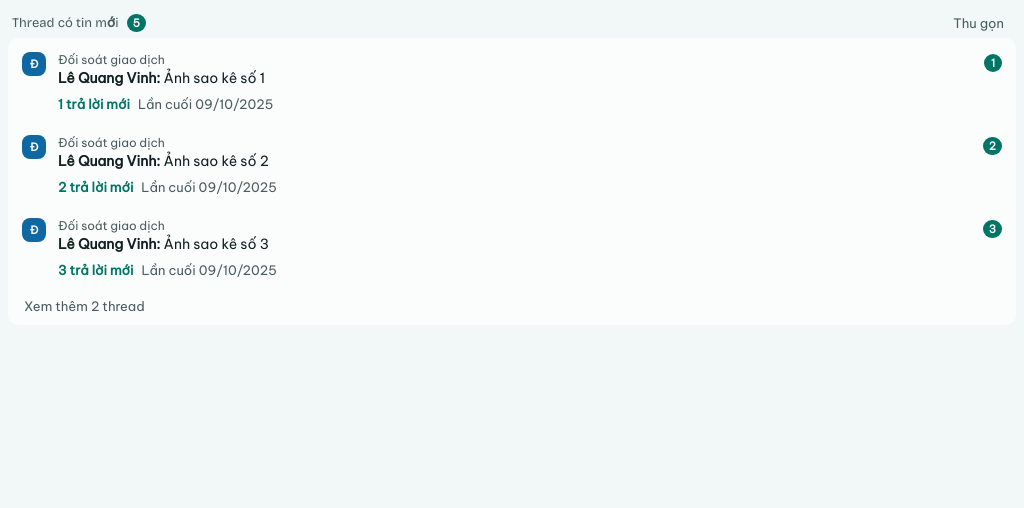
UnreadThreadsSection › shows the first three and folds the rest behind "Xem thêm N thread"
Expected: the number of buttons named "Thread của" is 3, [12,42,1012,123]; [12,125,1012,206]; [12,208,1012,289]
Step 1. Click the button "Xem thêm 2 thread" → [84, 306], box [12,291,157,321]
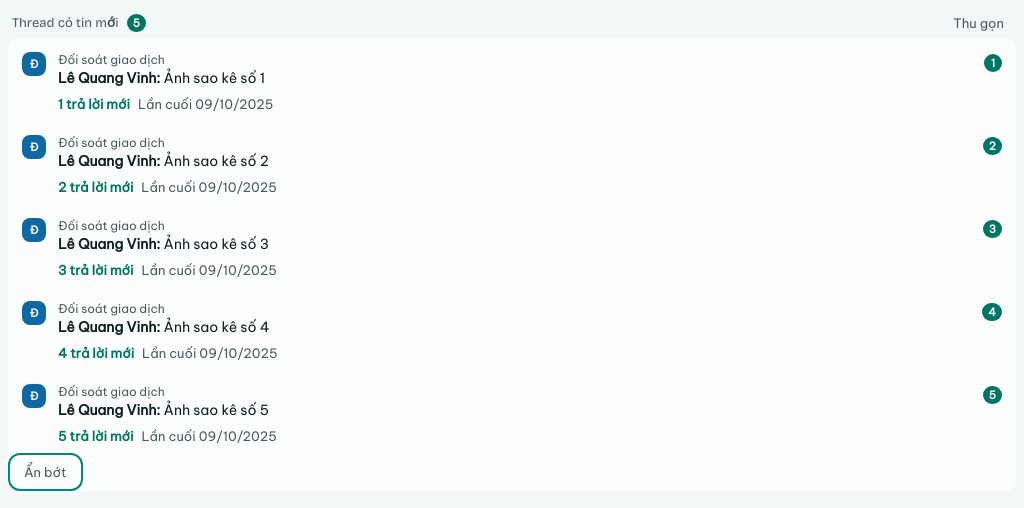
Expected: the number of buttons named "Thread của" is 5, [12,42,1012,123]; [12,125,1012,206]; [12,208,1012,289]; [12,291,1012,372]; [12,374,1012,455]
Step 2. Click the button "Ẩn bớt" → [45, 472], box [12,457,78,487]
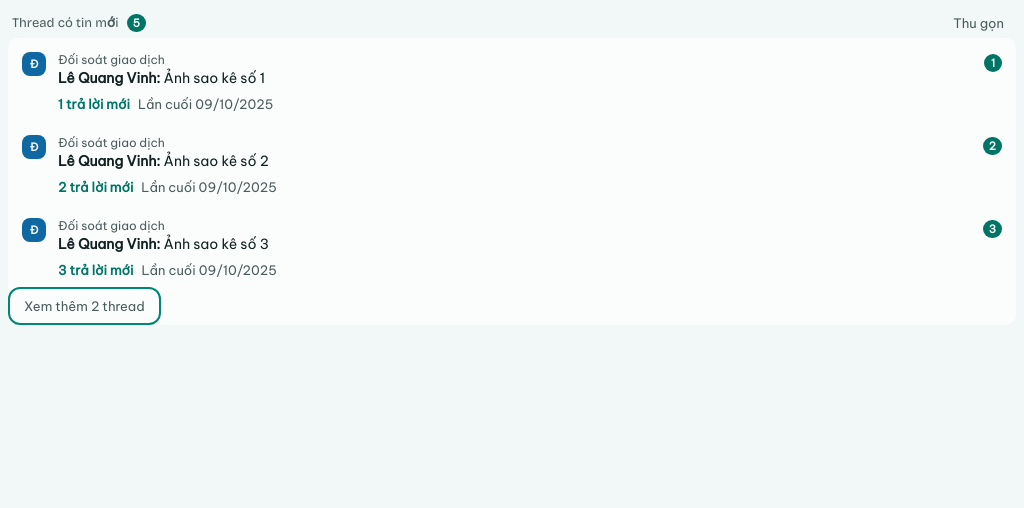
Expected: the number of buttons named "Thread của" is 3, [12,42,1012,123]; [12,125,1012,206]; [12,208,1012,289]
